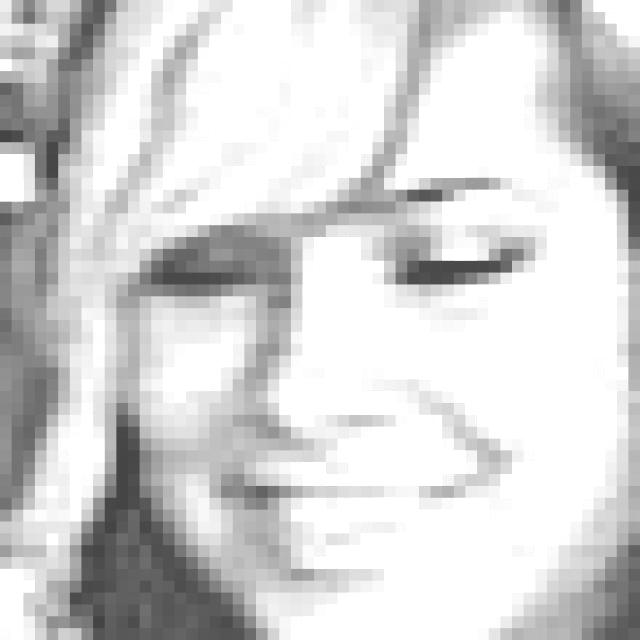real: (86, 6, 595, 569), (136, 218, 553, 308)
